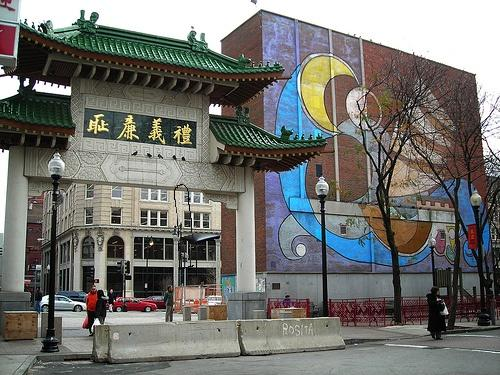tampered: (175, 185, 220, 277)
